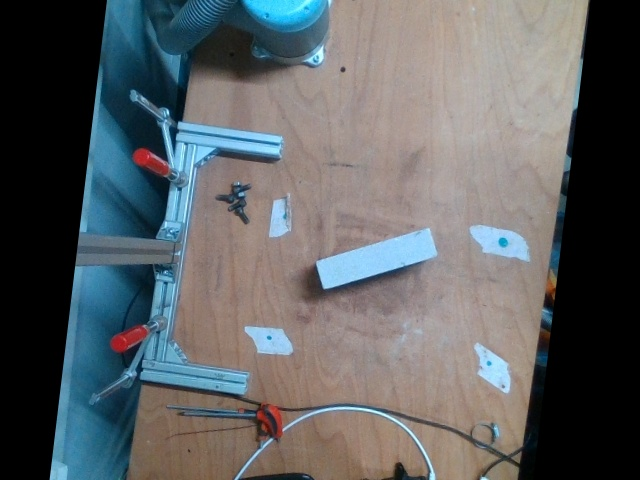brick-side: (315, 228, 436, 289)
